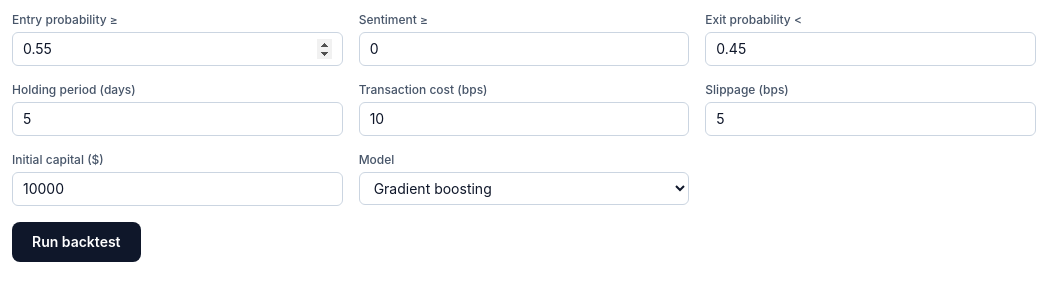
Test: BacktestForm › rejects a holding period outside the valid range
This screenshot has width=1048, height=303.
Replace the text in the number field labelled "Holding period (days)" with "999" at coordinates (177, 119), box [12,102,343,136]
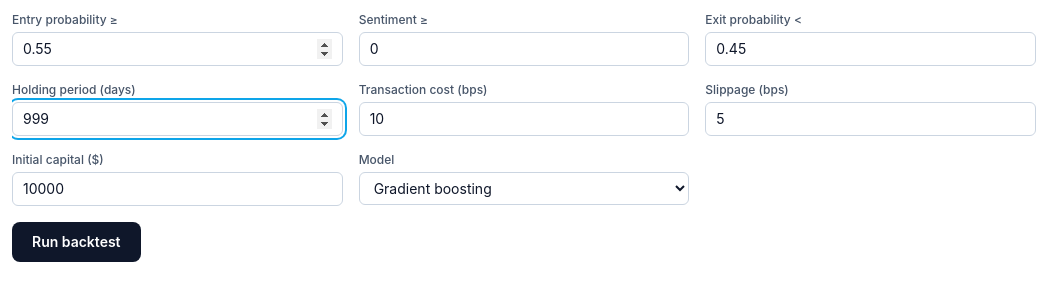
Click the button "Run backtest" at coordinates (76, 242), box [12,222,141,262]
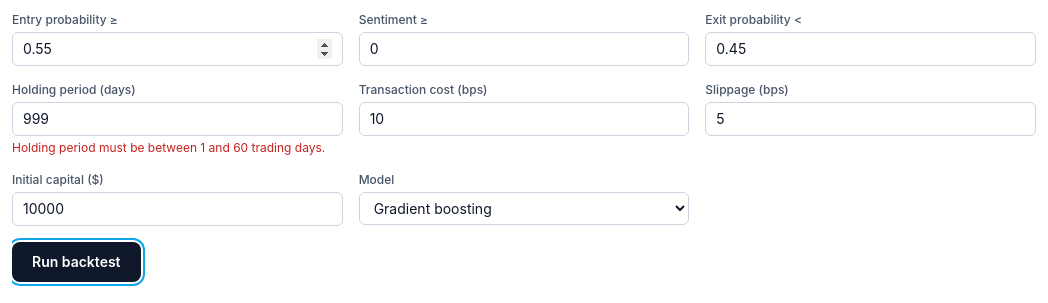
Check: the message shows "between 1 and 60", box [12,140,325,155]
